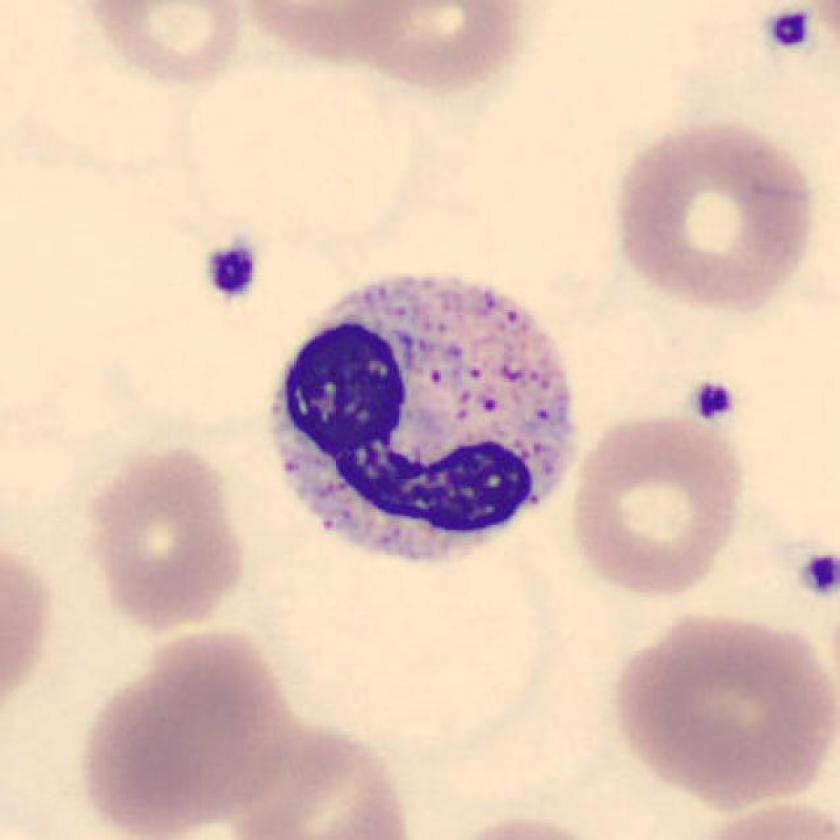neutrophil: (273, 277, 575, 567)
